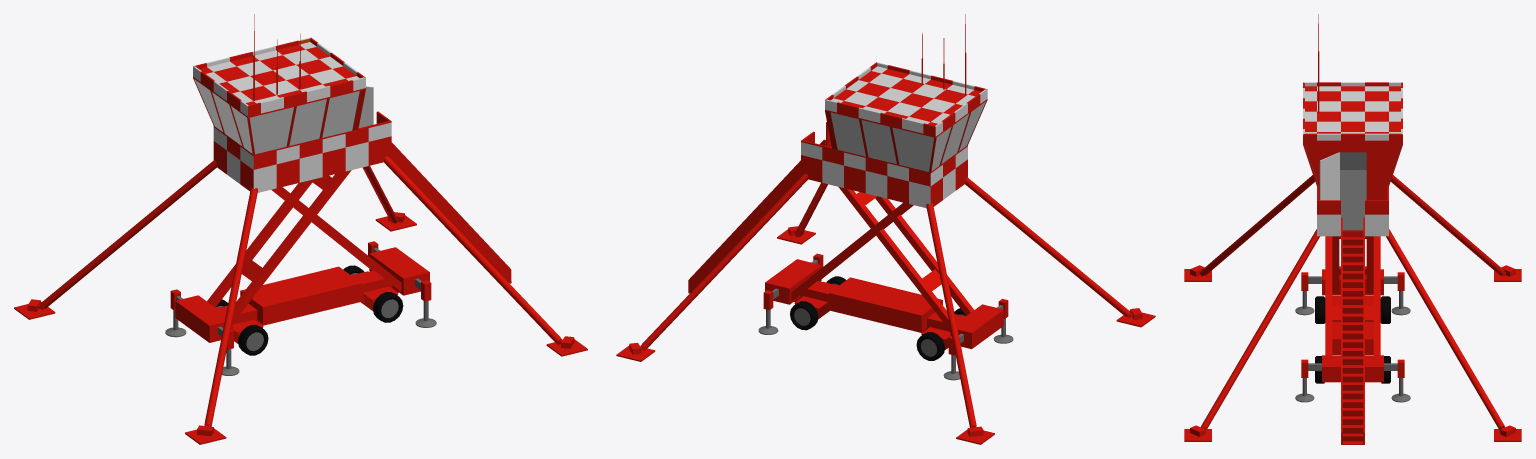
The model's file is MobileATC.fbx.
3 renders of one model, left to right at view 1: azimuth 30°, elevation 25°; view 2: azimuth 150°, elevation 25°; view 3: azimuth 270°, elevation 25°, orthographic. The views are drawn at different scales.
Visible parts, largest first — view 1: MobileATC_Lifter, MobileATC, MobileATC_Window; view 2: MobileATC_Lifter, MobileATC, MobileATC_Window; view 3: MobileATC_Lifter, MobileATC.
Part boxes in pixels (x1,y1,x2,y2): MobileATC_Lifter: [14, 142, 587, 444]; MobileATC: [193, 14, 391, 192]; MobileATC_Window: [195, 79, 359, 154]; MobileATC_Lifter: [616, 139, 1155, 444]; MobileATC: [801, 14, 987, 208]; MobileATC_Window: [831, 101, 985, 171]; MobileATC_Lifter: [1184, 175, 1521, 444]; MobileATC: [1303, 14, 1402, 236].
Size of the model in its own units: 12.1 by 10.04 by 9.8.
